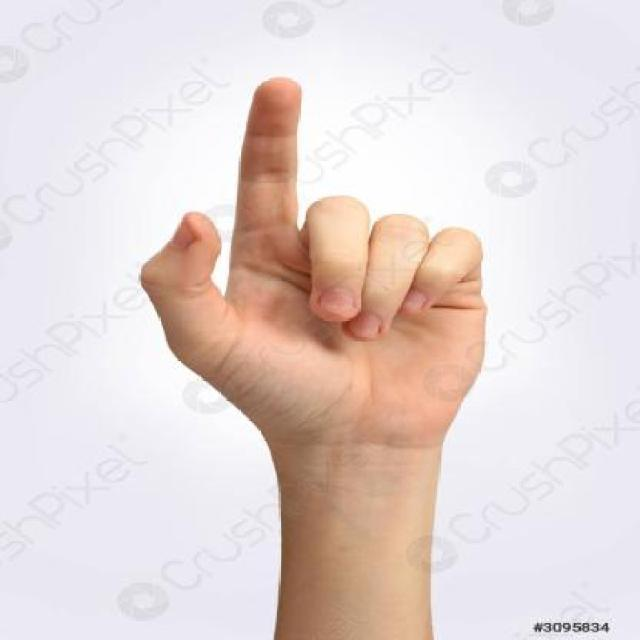no_apron: (128, 45, 504, 453)
